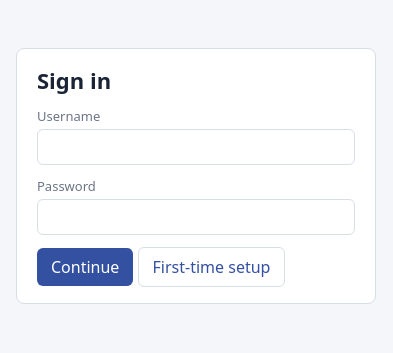
Test: LoginPage › surfaces server-provided error messages when login fails
expect the heading "Sign in" is shown: met, box [37, 65, 111, 95]
In the field labelled "Username": (196, 147) [37, 129, 355, 165], type "alice"
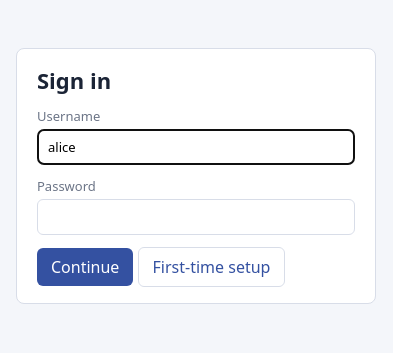
In the password field labelled "Password": (196, 217) [37, 199, 355, 235], type "bad"
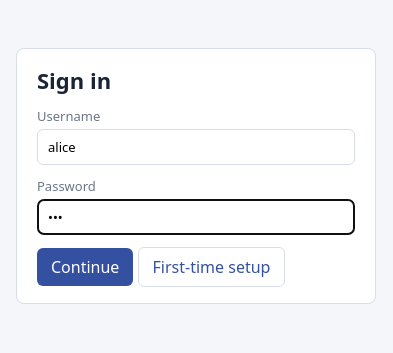
Click the button "Continue": (85, 267) [37, 248, 133, 286]
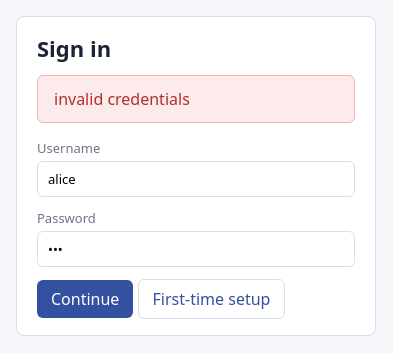
expect the text "invalid credentials" is shown: met, box [37, 75, 355, 123]
